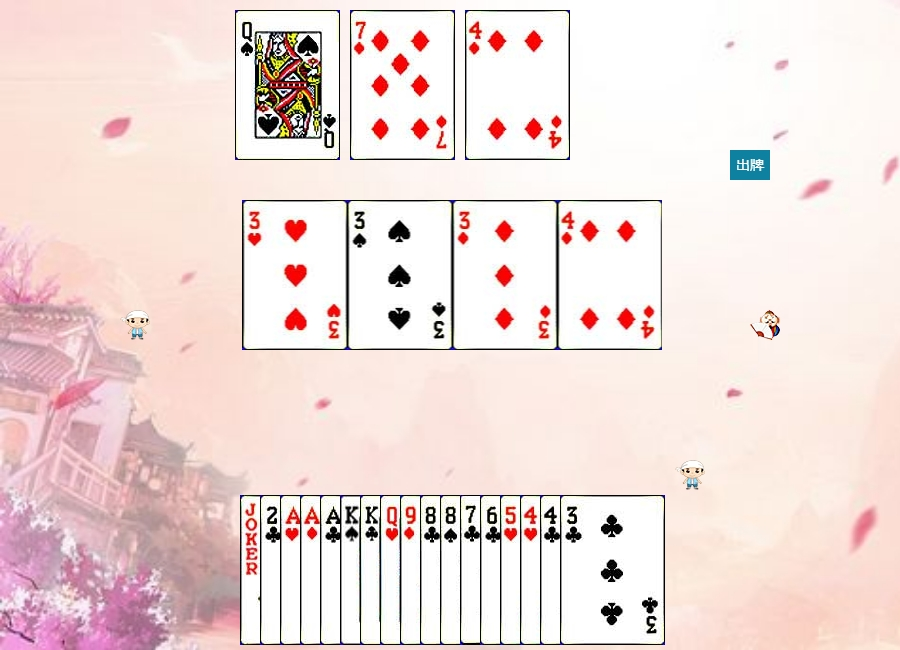12~3: (380, 495, 485, 645)
12~4: (235, 10, 340, 160)
13~2: (360, 495, 465, 645)
13~4: (340, 495, 445, 645)
14~1: (300, 495, 405, 645)
14~2: (320, 495, 425, 645)
14~3: (280, 495, 385, 645)
15~2: (260, 495, 365, 645)
18~4: (240, 495, 345, 645)
3~1: (453, 200, 558, 350)
3~2: (560, 495, 665, 645)
3~3: (243, 200, 348, 350)
3~4: (348, 200, 453, 350)
4~1: (465, 10, 570, 160), (558, 200, 663, 350)
4~2: (540, 495, 645, 645)
4~3: (520, 495, 625, 645)
5~3: (500, 495, 605, 645)
6~2: (480, 495, 585, 645)
7~1: (350, 10, 455, 160)
7~2: (460, 495, 565, 645)
8~2: (420, 495, 525, 645)
8~4: (440, 495, 545, 645)
9~1: (400, 495, 505, 645)
